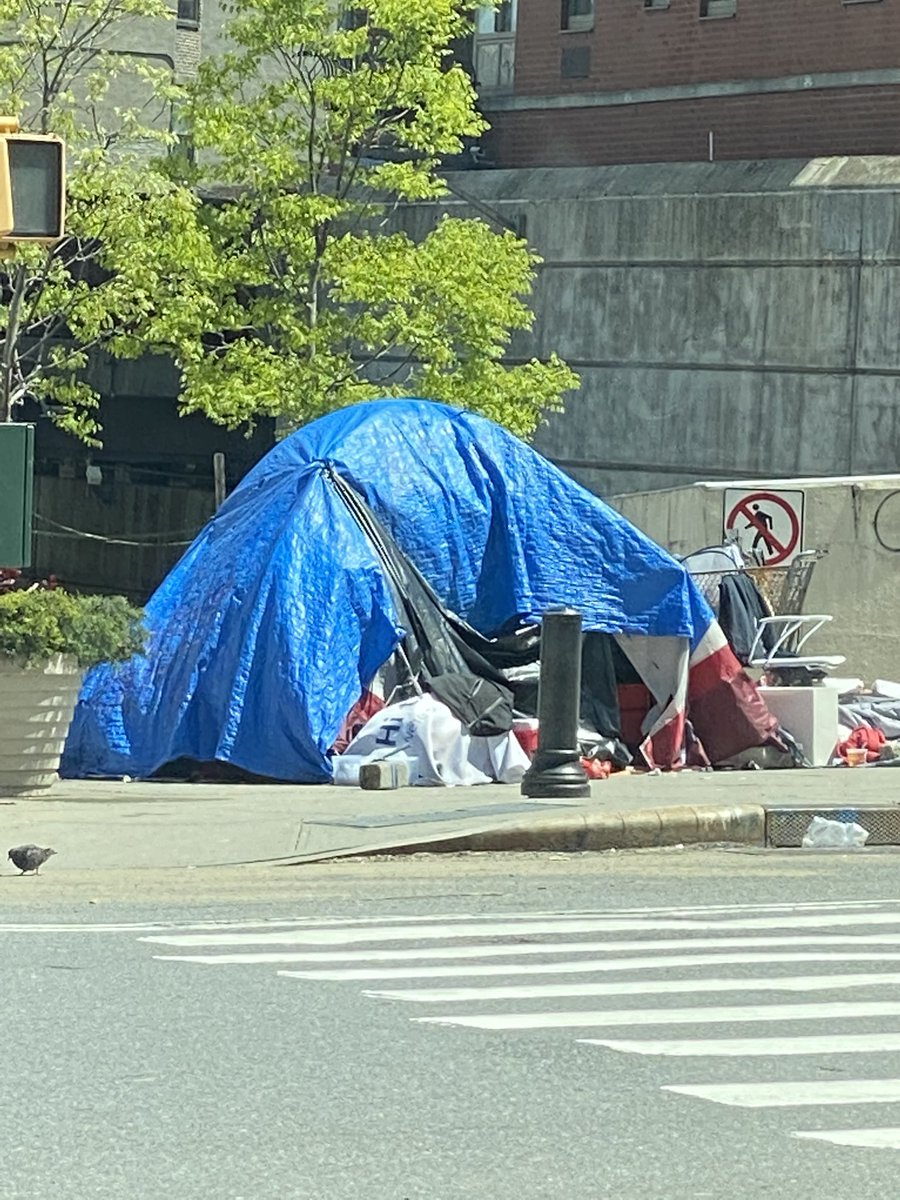building: (513, 1, 900, 431)
crosswalk: (117, 877, 900, 1200)
trash: (133, 425, 735, 803)
tree: (80, 12, 535, 540)
